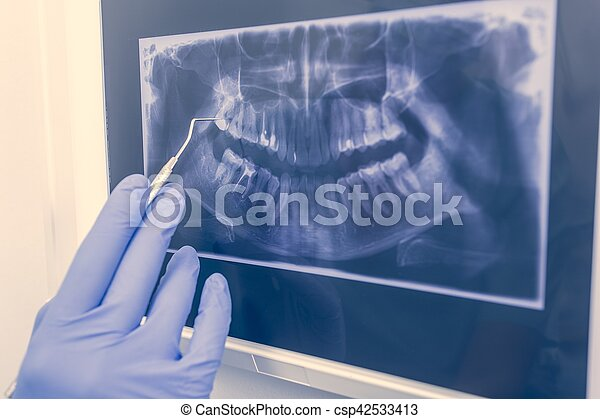canine: (327, 95, 341, 162), (323, 172, 337, 229), (279, 171, 291, 226), (278, 99, 288, 163)
incisor: (307, 110, 322, 167), (296, 109, 309, 170), (321, 95, 331, 168), (286, 107, 297, 168), (305, 172, 317, 225), (315, 174, 325, 234), (299, 173, 308, 235), (291, 174, 299, 234)
molar: (358, 158, 399, 213), (380, 153, 423, 197), (380, 99, 409, 147), (212, 146, 242, 189), (232, 159, 259, 199), (361, 102, 384, 147), (209, 96, 236, 130), (229, 91, 248, 137), (242, 94, 258, 145)
premolar: (344, 169, 373, 222), (349, 100, 366, 159), (338, 100, 354, 157), (267, 97, 280, 159), (258, 97, 272, 151), (336, 174, 350, 228), (257, 167, 272, 205), (270, 174, 280, 219)
